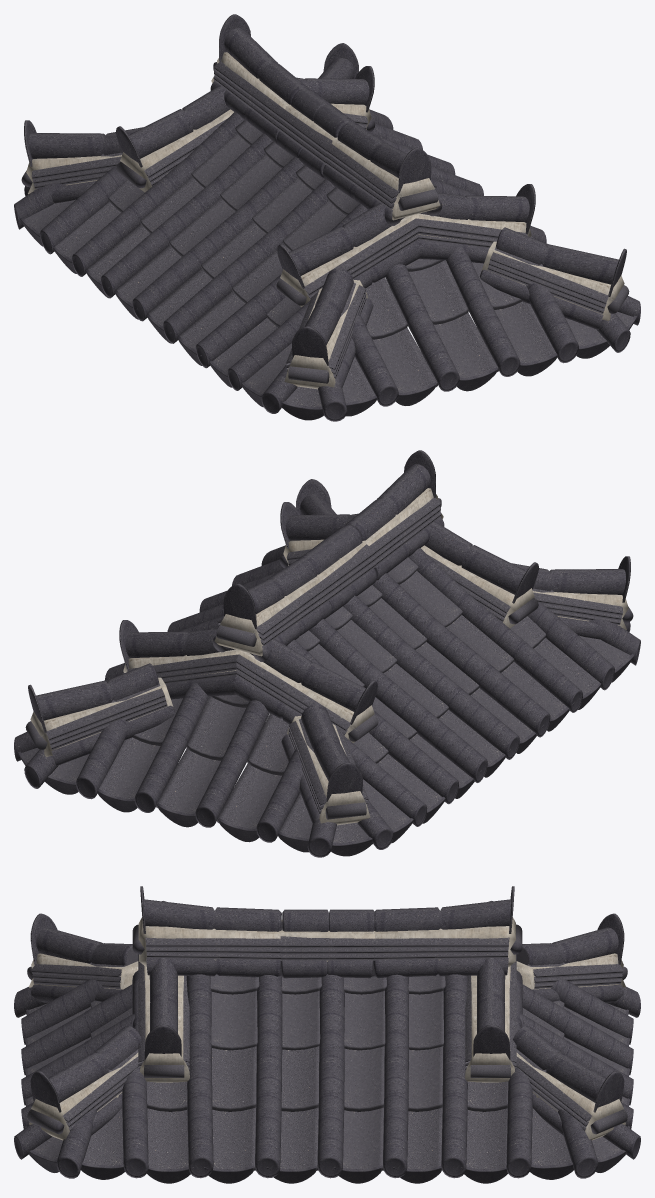
Rendered from SM_Roof_41.fbx.
The picture shows the model from 3 angles, top to bottom: view 1: azimuth 30°, elevation 25°; view 2: azimuth 150°, elevation 25°; view 3: azimuth 270°, elevation 25°; orthographic projection. The views are drawn at different scales.
Visible parts, largest first — view 1: SM_Roof_41; view 2: SM_Roof_41; view 3: SM_Roof_41.
Part boxes in pixels (x1,y1,x2,y2): SM_Roof_41: (14, 14, 640, 421); SM_Roof_41: (14, 450, 640, 857); SM_Roof_41: (14, 886, 640, 1183).
Size of the model in its own units: 249 by 353 by 130.
Materials: 2 (2 with a texture image).
